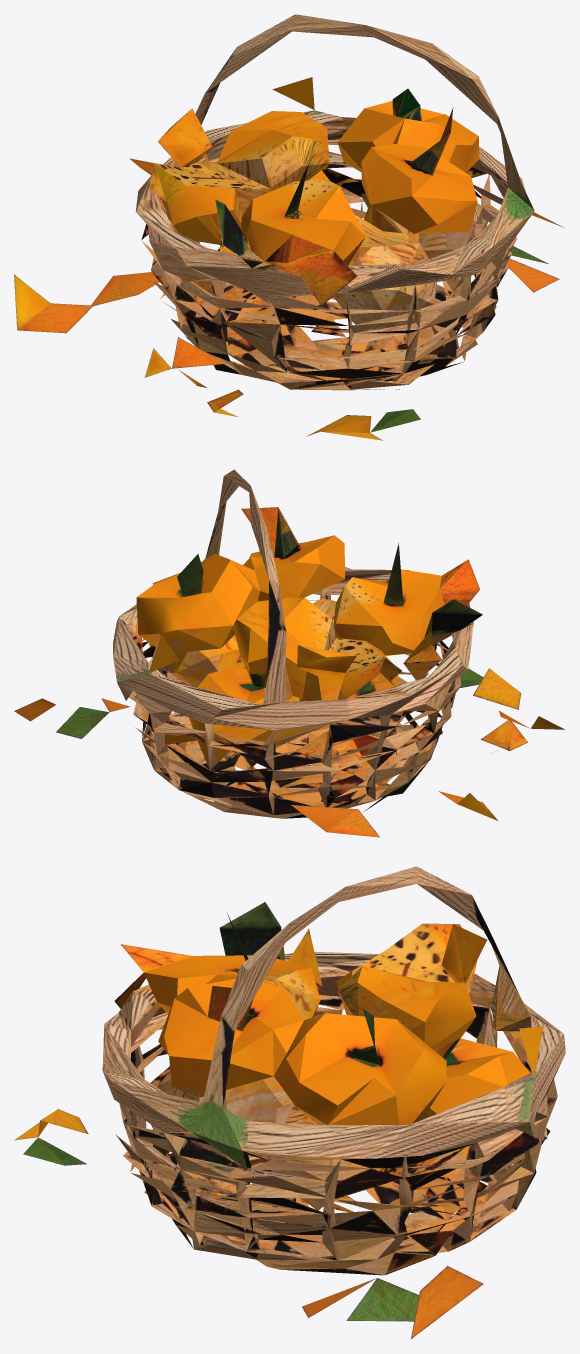
File: basket.glb
The picture shows the model from 3 angles, top to bottom: view 1: azimuth 30°, elevation 25°; view 2: azimuth 150°, elevation 25°; view 3: azimuth 270°, elevation 25°; orthographic projection. The views are drawn at different scales.
Size of the model in its own units: 1.89 by 1.01 by 1.45.
Materials: 1 (1 with a texture image).
